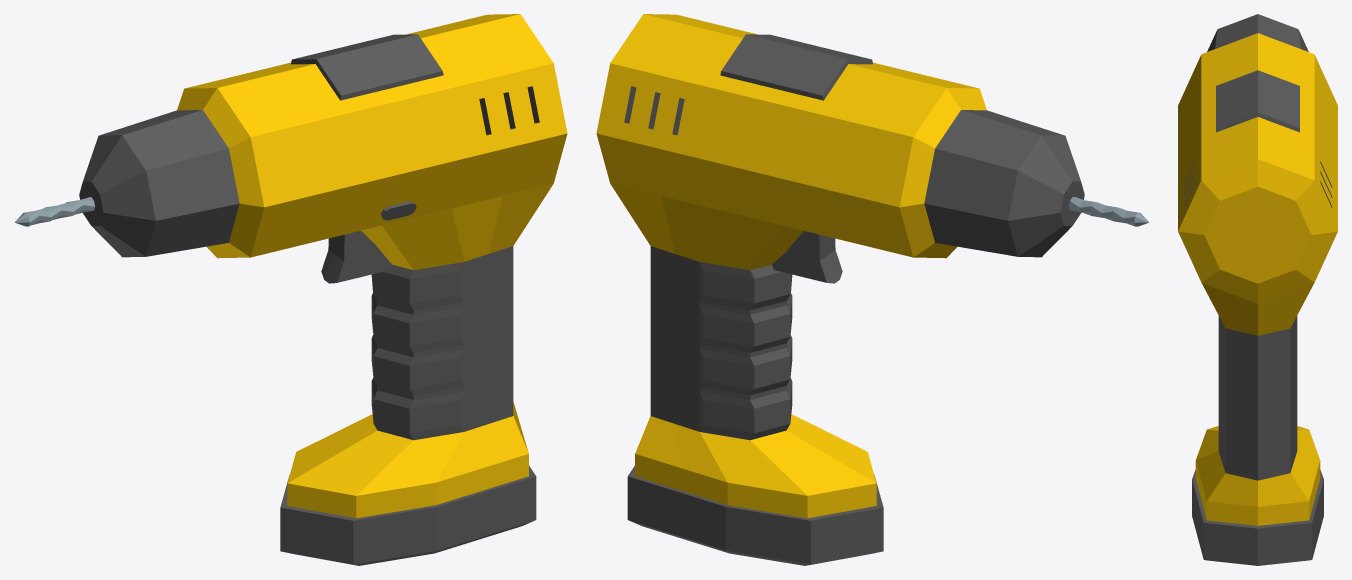
The model's file is drill.glb.
3 views of the same model, side by side, from view 1: azimuth 30°, elevation 25°; view 2: azimuth 150°, elevation 25°; view 3: azimuth 270°, elevation 25° (orthographic). The views are drawn at different scales.
Visible parts, largest first — view 1: Drill_Circle.026; view 2: Drill_Circle.026; view 3: Drill_Circle.026.
Boxes of the visible parts, x1,y1,x2,y2 form: Drill_Circle.026: (15,14,567,565); Drill_Circle.026: (596,14,1148,565); Drill_Circle.026: (1178,14,1337,565).
Bounding box in the file's own units: 11.03 × 10.01 × 3.48.
